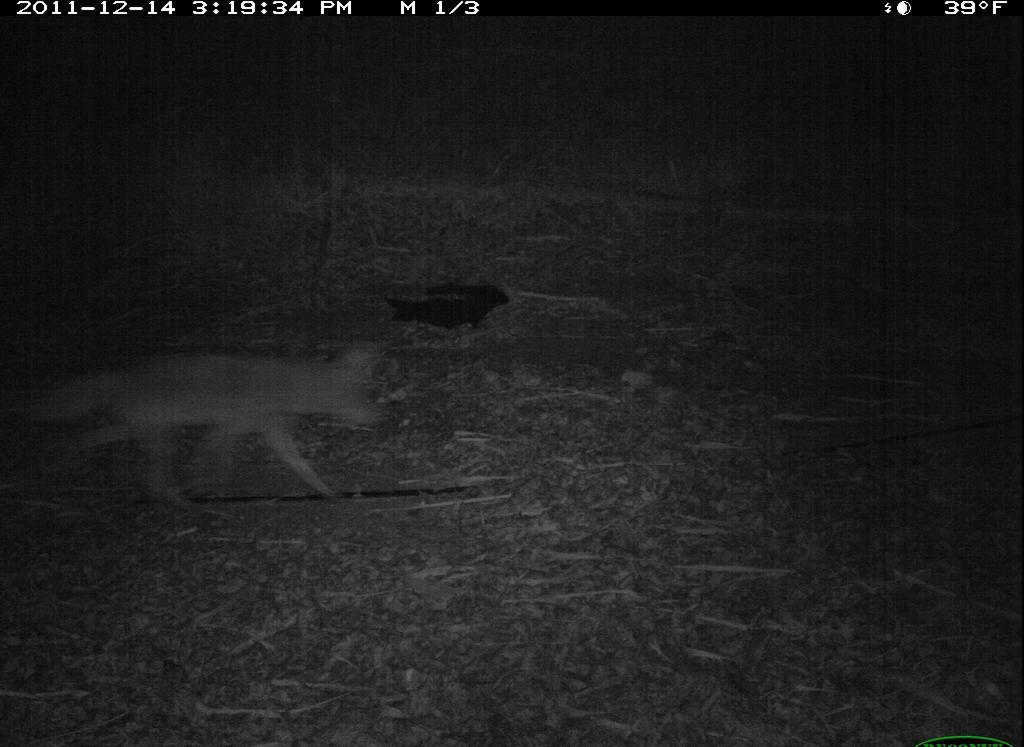coyote: (20, 333, 425, 514)
